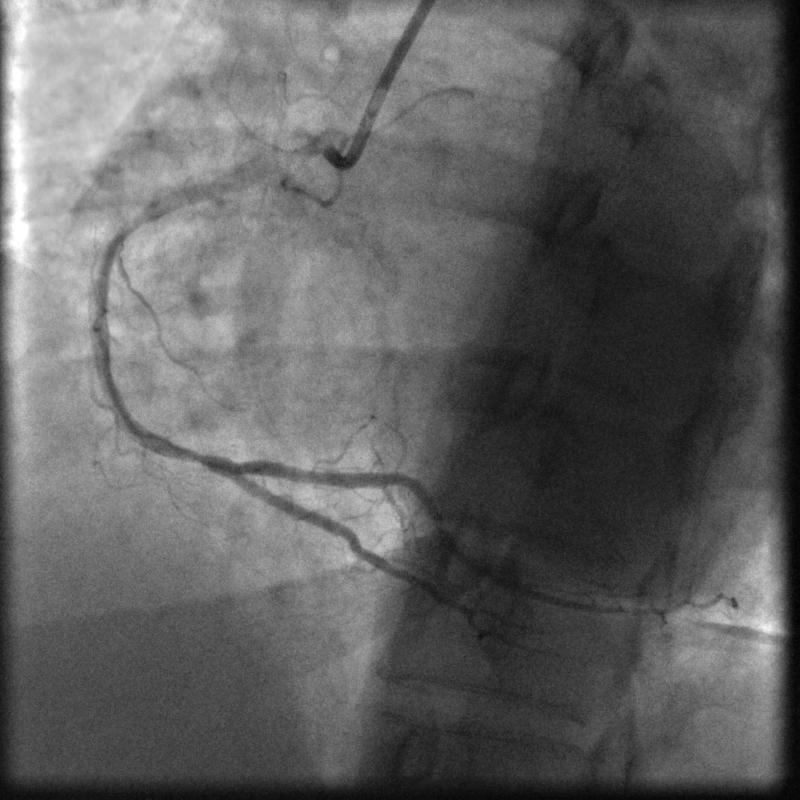Stenosis: (182, 440, 210, 472)
